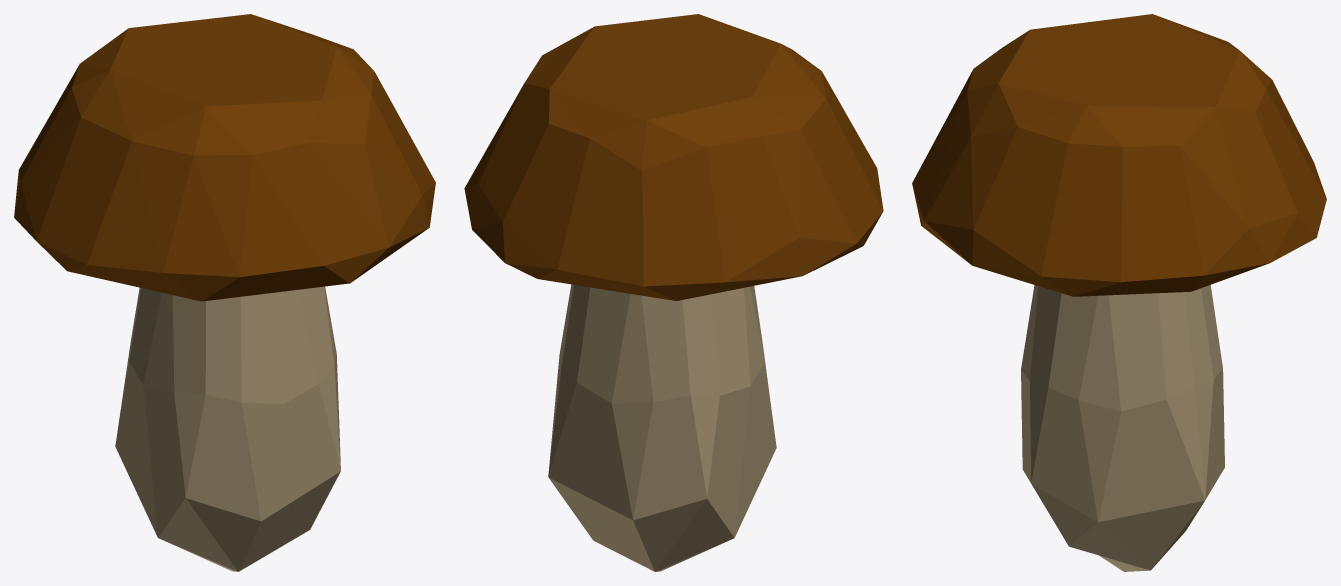
The model's file is mush.glb.
The picture shows the model from 3 angles, left to right: view 1: azimuth 30°, elevation 25°; view 2: azimuth 150°, elevation 25°; view 3: azimuth 270°, elevation 25°; orthographic projection. The views are drawn at different scales.
Parts seen in each view (by area): view 1: Cube.001; view 2: Cube.001; view 3: Cube.001.
Part boxes in pixels (left/top/right/bottom): Cube.001: left=14, top=14, right=435, bottom=571; Cube.001: left=464, top=14, right=883, bottom=571; Cube.001: left=912, top=14, right=1326, bottom=571.
Size of the model in its own units: 1.31 by 1.75 by 1.3.
